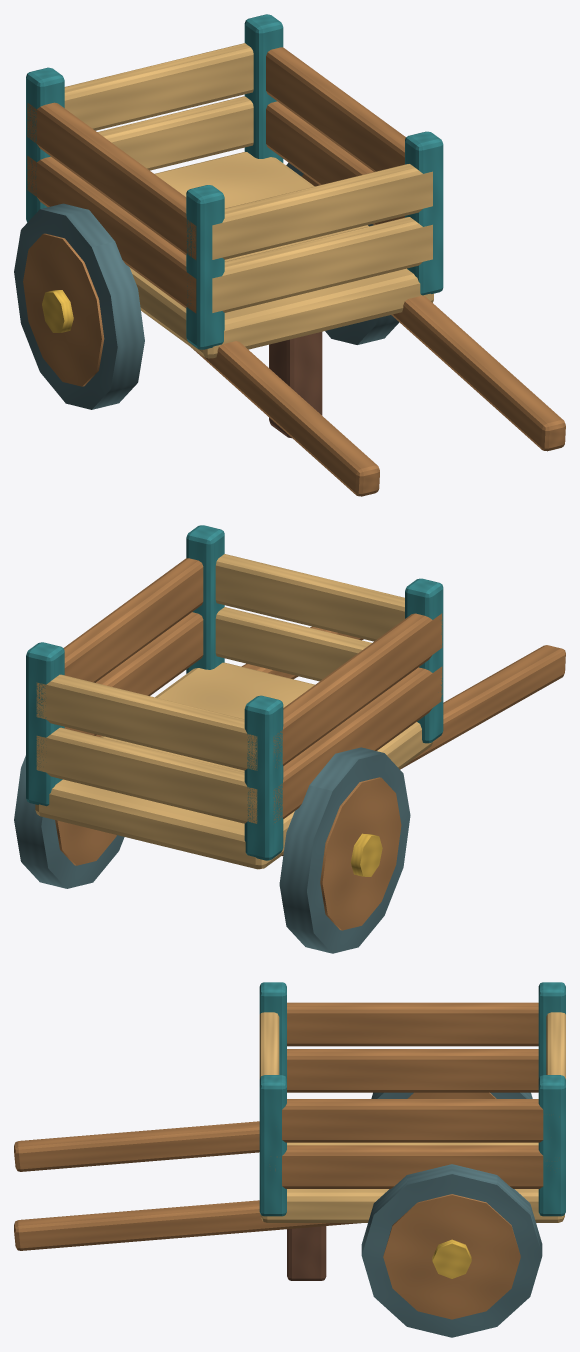
Rendered from camp-cart.glb.
3 views of the same model, one above another, from view 1: azimuth 30°, elevation 25°; view 2: azimuth 150°, elevation 25°; view 3: azimuth 270°, elevation 25° (orthographic). The views are drawn at different scales.
Parts seen in each view (by area): view 1: camp-cart-mesh; view 2: camp-cart-mesh; view 3: camp-cart-mesh.
Boxes of the visible parts, x1,y1,x2,y2 form: camp-cart-mesh: (14, 14, 565, 496); camp-cart-mesh: (14, 525, 565, 953); camp-cart-mesh: (14, 982, 565, 1337).
Size of the model in its own units: 1.63 by 1.37 by 2.81.
1 material, 1 textured.
